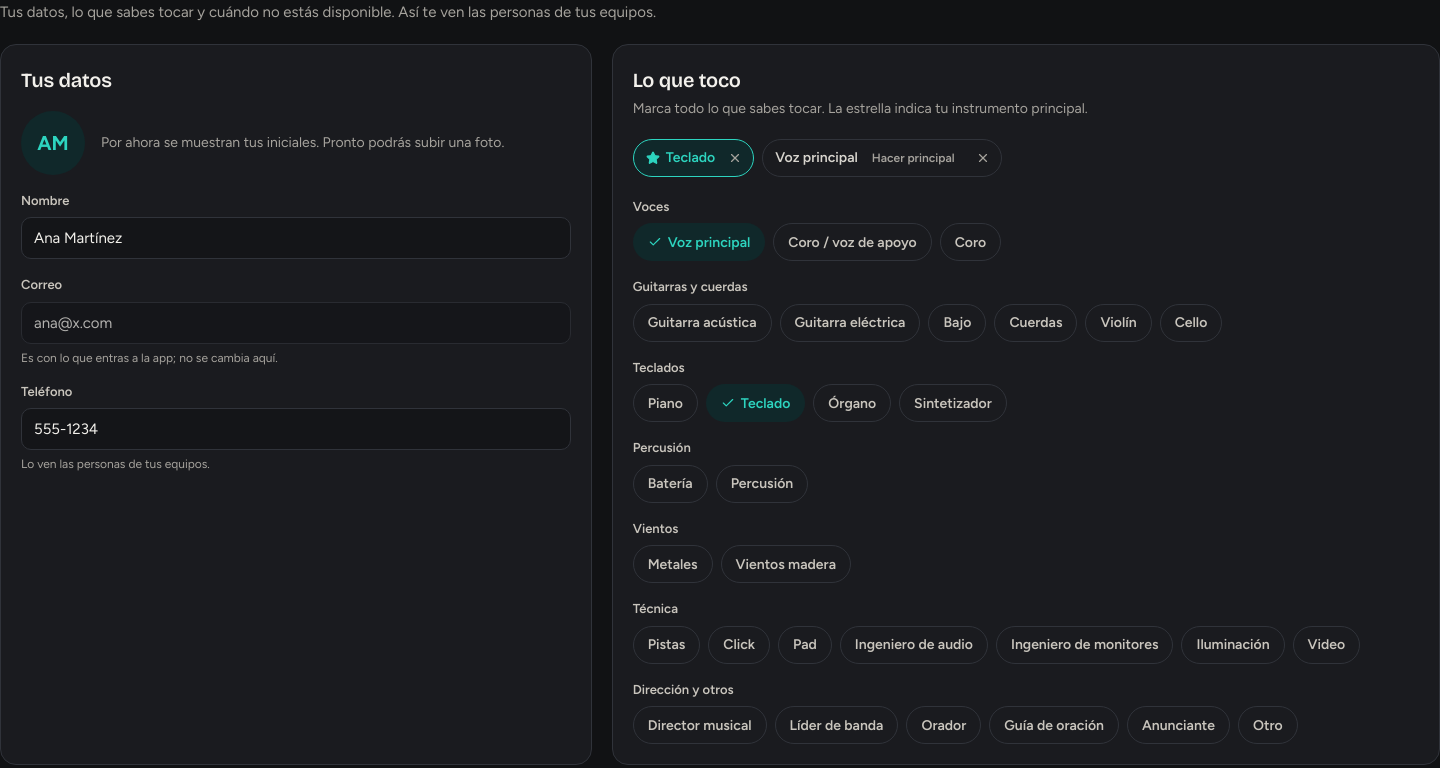
Test: ProfilePage › Cancelar descarta los cambios sin guardar
This screenshot has width=1440, height=768.
Step 1. Replace the text in the field labelled "Nombre" with "Otro nombre" → (296, 238), box 21,217 -> 571,259
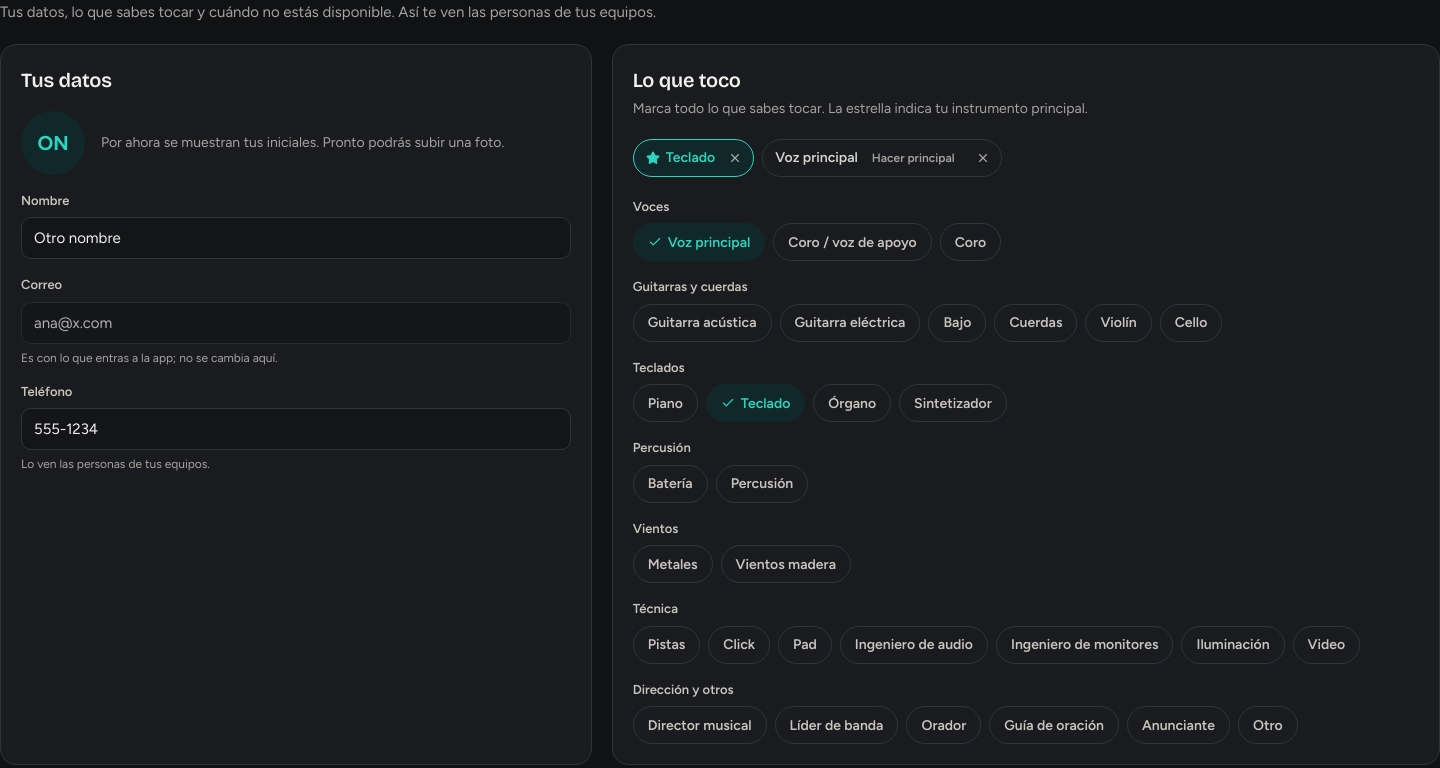
Step 2. Click the button "Batería" → click(670, 484), box 633,465 -> 708,503
(page scrolled)
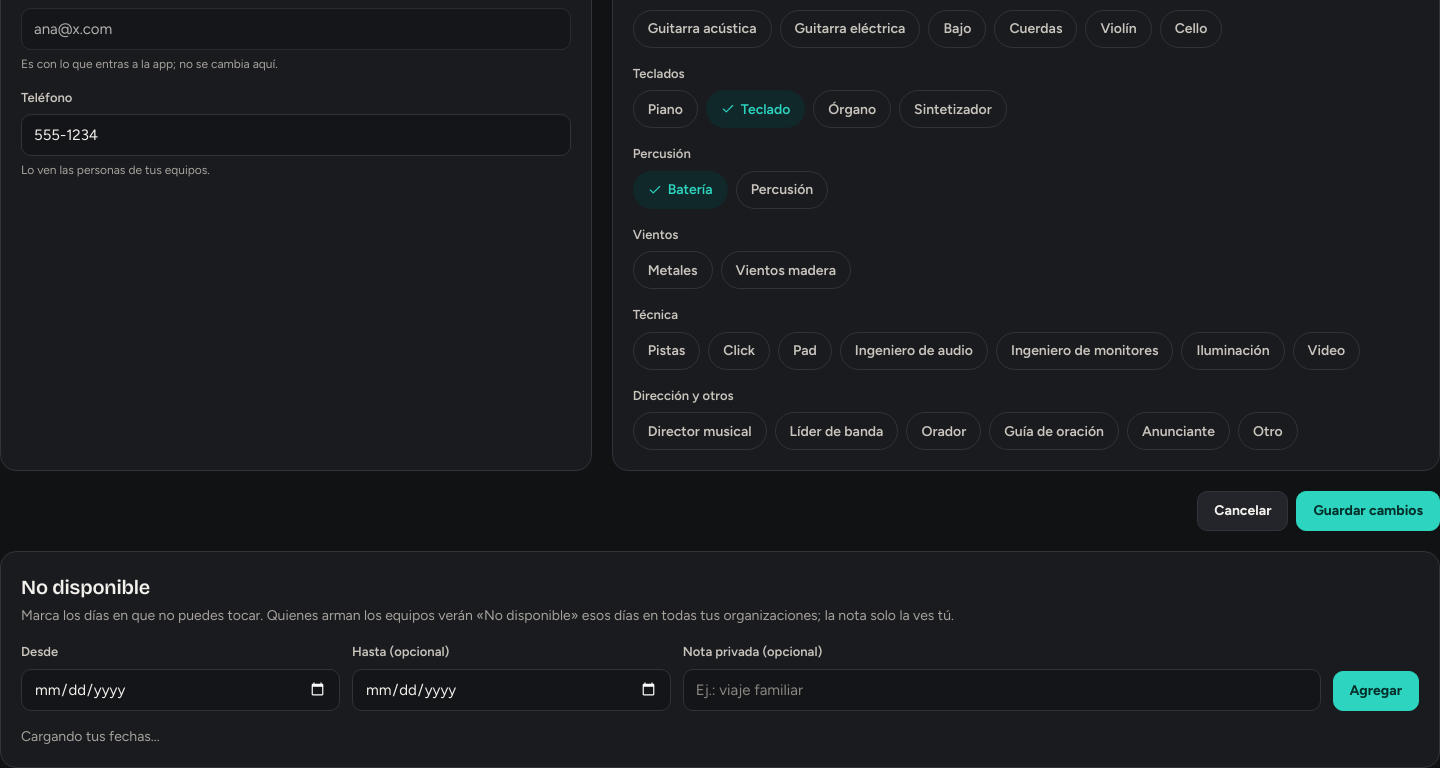
Step 3. Click the button "Cancelar" → click(1243, 511), box 1197,491 -> 1288,531
(page scrolled)
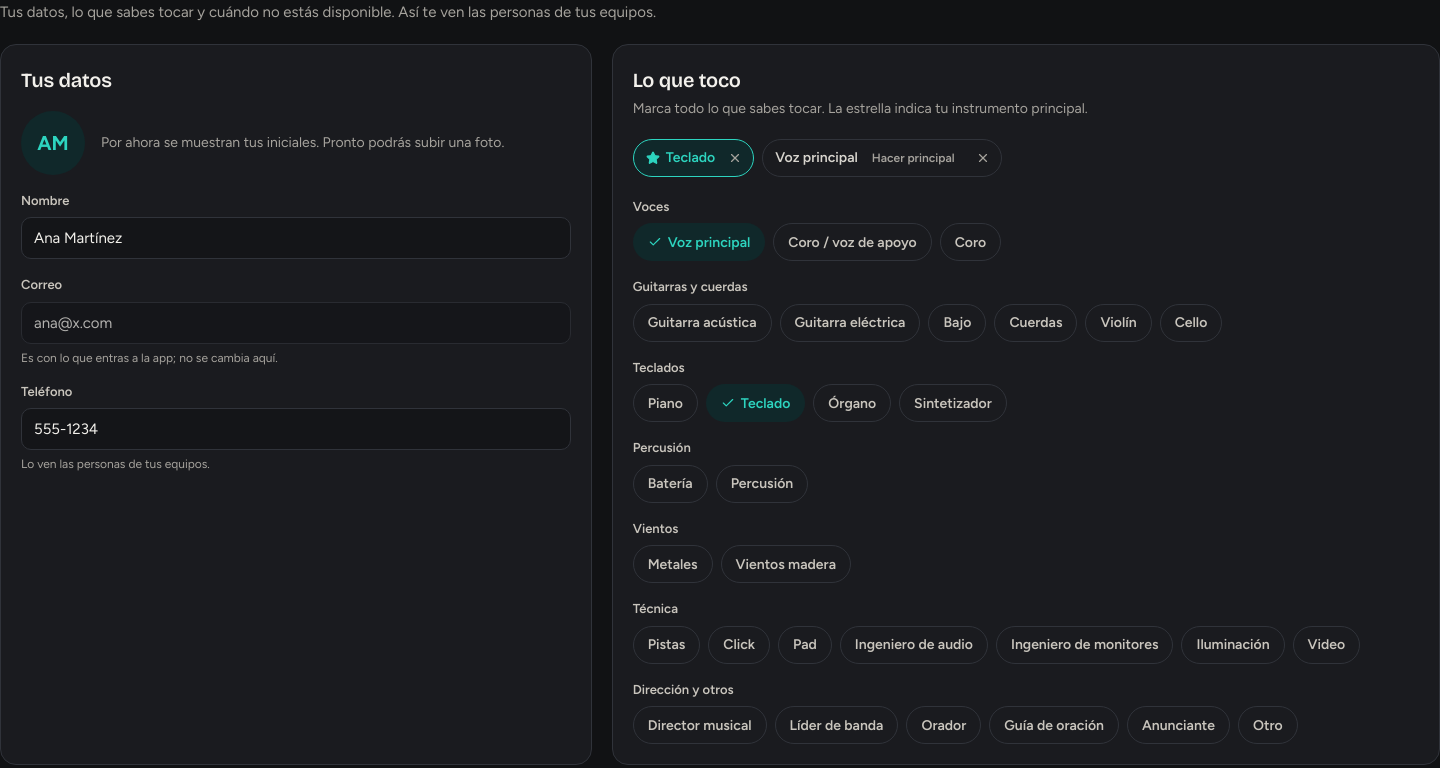
Expected: the field labelled "Nombre" holds "Ana Martínez", 21,217 -> 571,259
